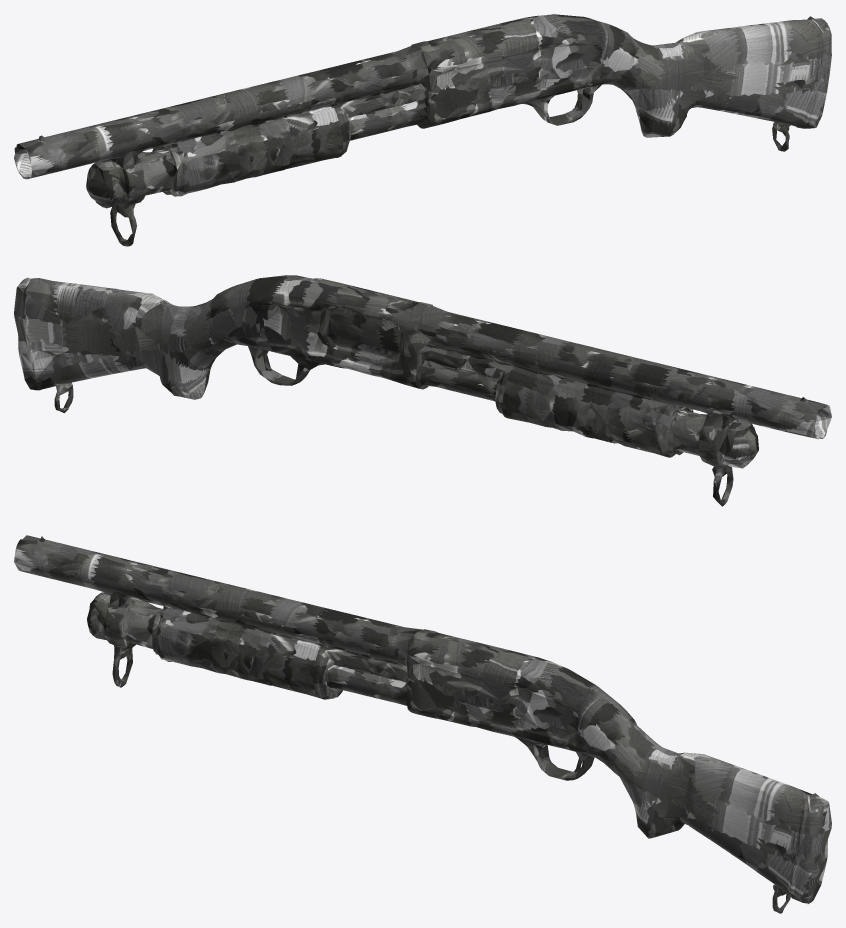
The model's file is Shotgun_Reduce.fbx.
3 renders of one model, top to bottom at view 1: azimuth 30°, elevation 25°; view 2: azimuth 150°, elevation 25°; view 3: azimuth 330°, elevation 25°, orthographic.
Parts seen in each view (by area): view 1: Mesh_0; view 2: Mesh_0; view 3: Mesh_0.
Part boxes in pixels (x1,y1,x2,y2): Mesh_0: [14, 14, 831, 246]; Mesh_0: [14, 275, 831, 506]; Mesh_0: [14, 535, 831, 913].
Bounding box in the file's own units: 190 × 44.23 × 11.99.
